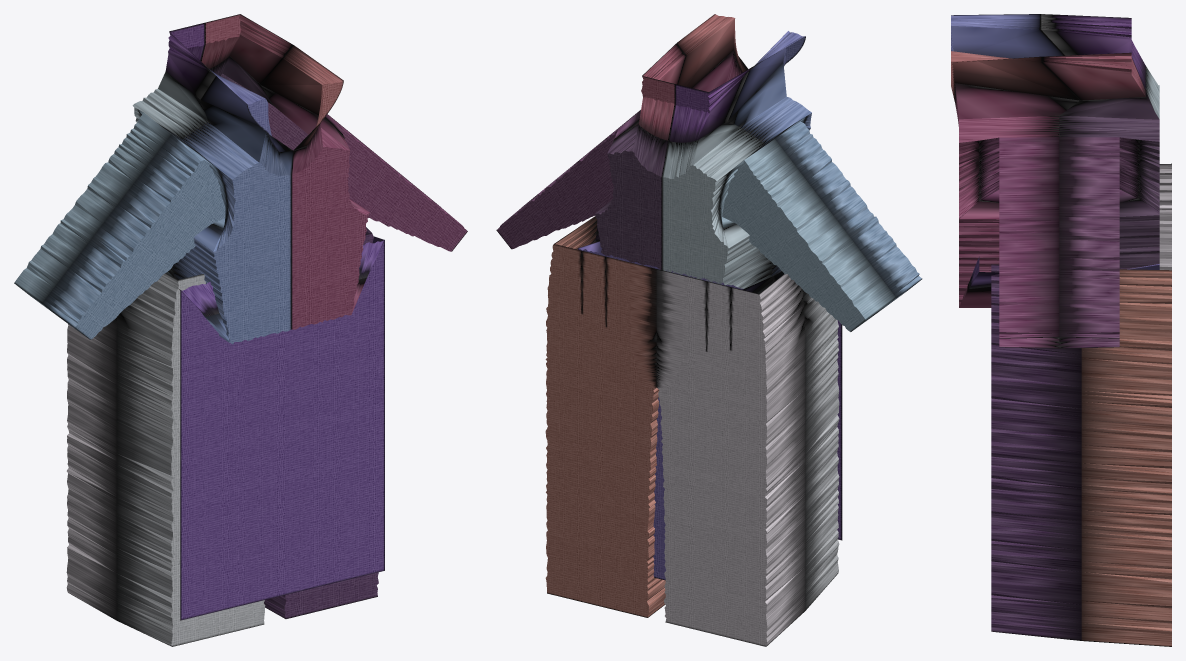
Rendered from ao_dai_boxmesh.obj.
3 views of the same model, side by side, from view 1: azimuth 30°, elevation 25°; view 2: azimuth 150°, elevation 25°; view 3: azimuth 270°, elevation 25° (orthographic). The views are drawn at different scales.
Bounding box in the file's own units: 114 × 153 × 55.
Materials: 1 (1 with a texture image).
